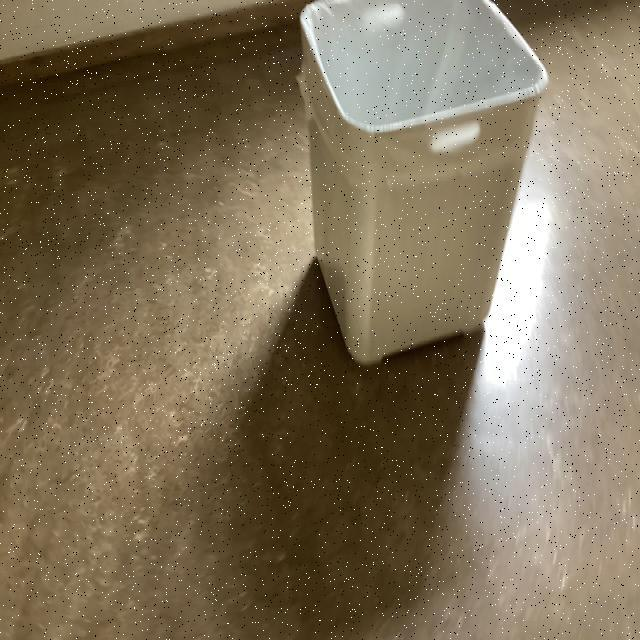garbage container: (284, 0, 576, 380)
